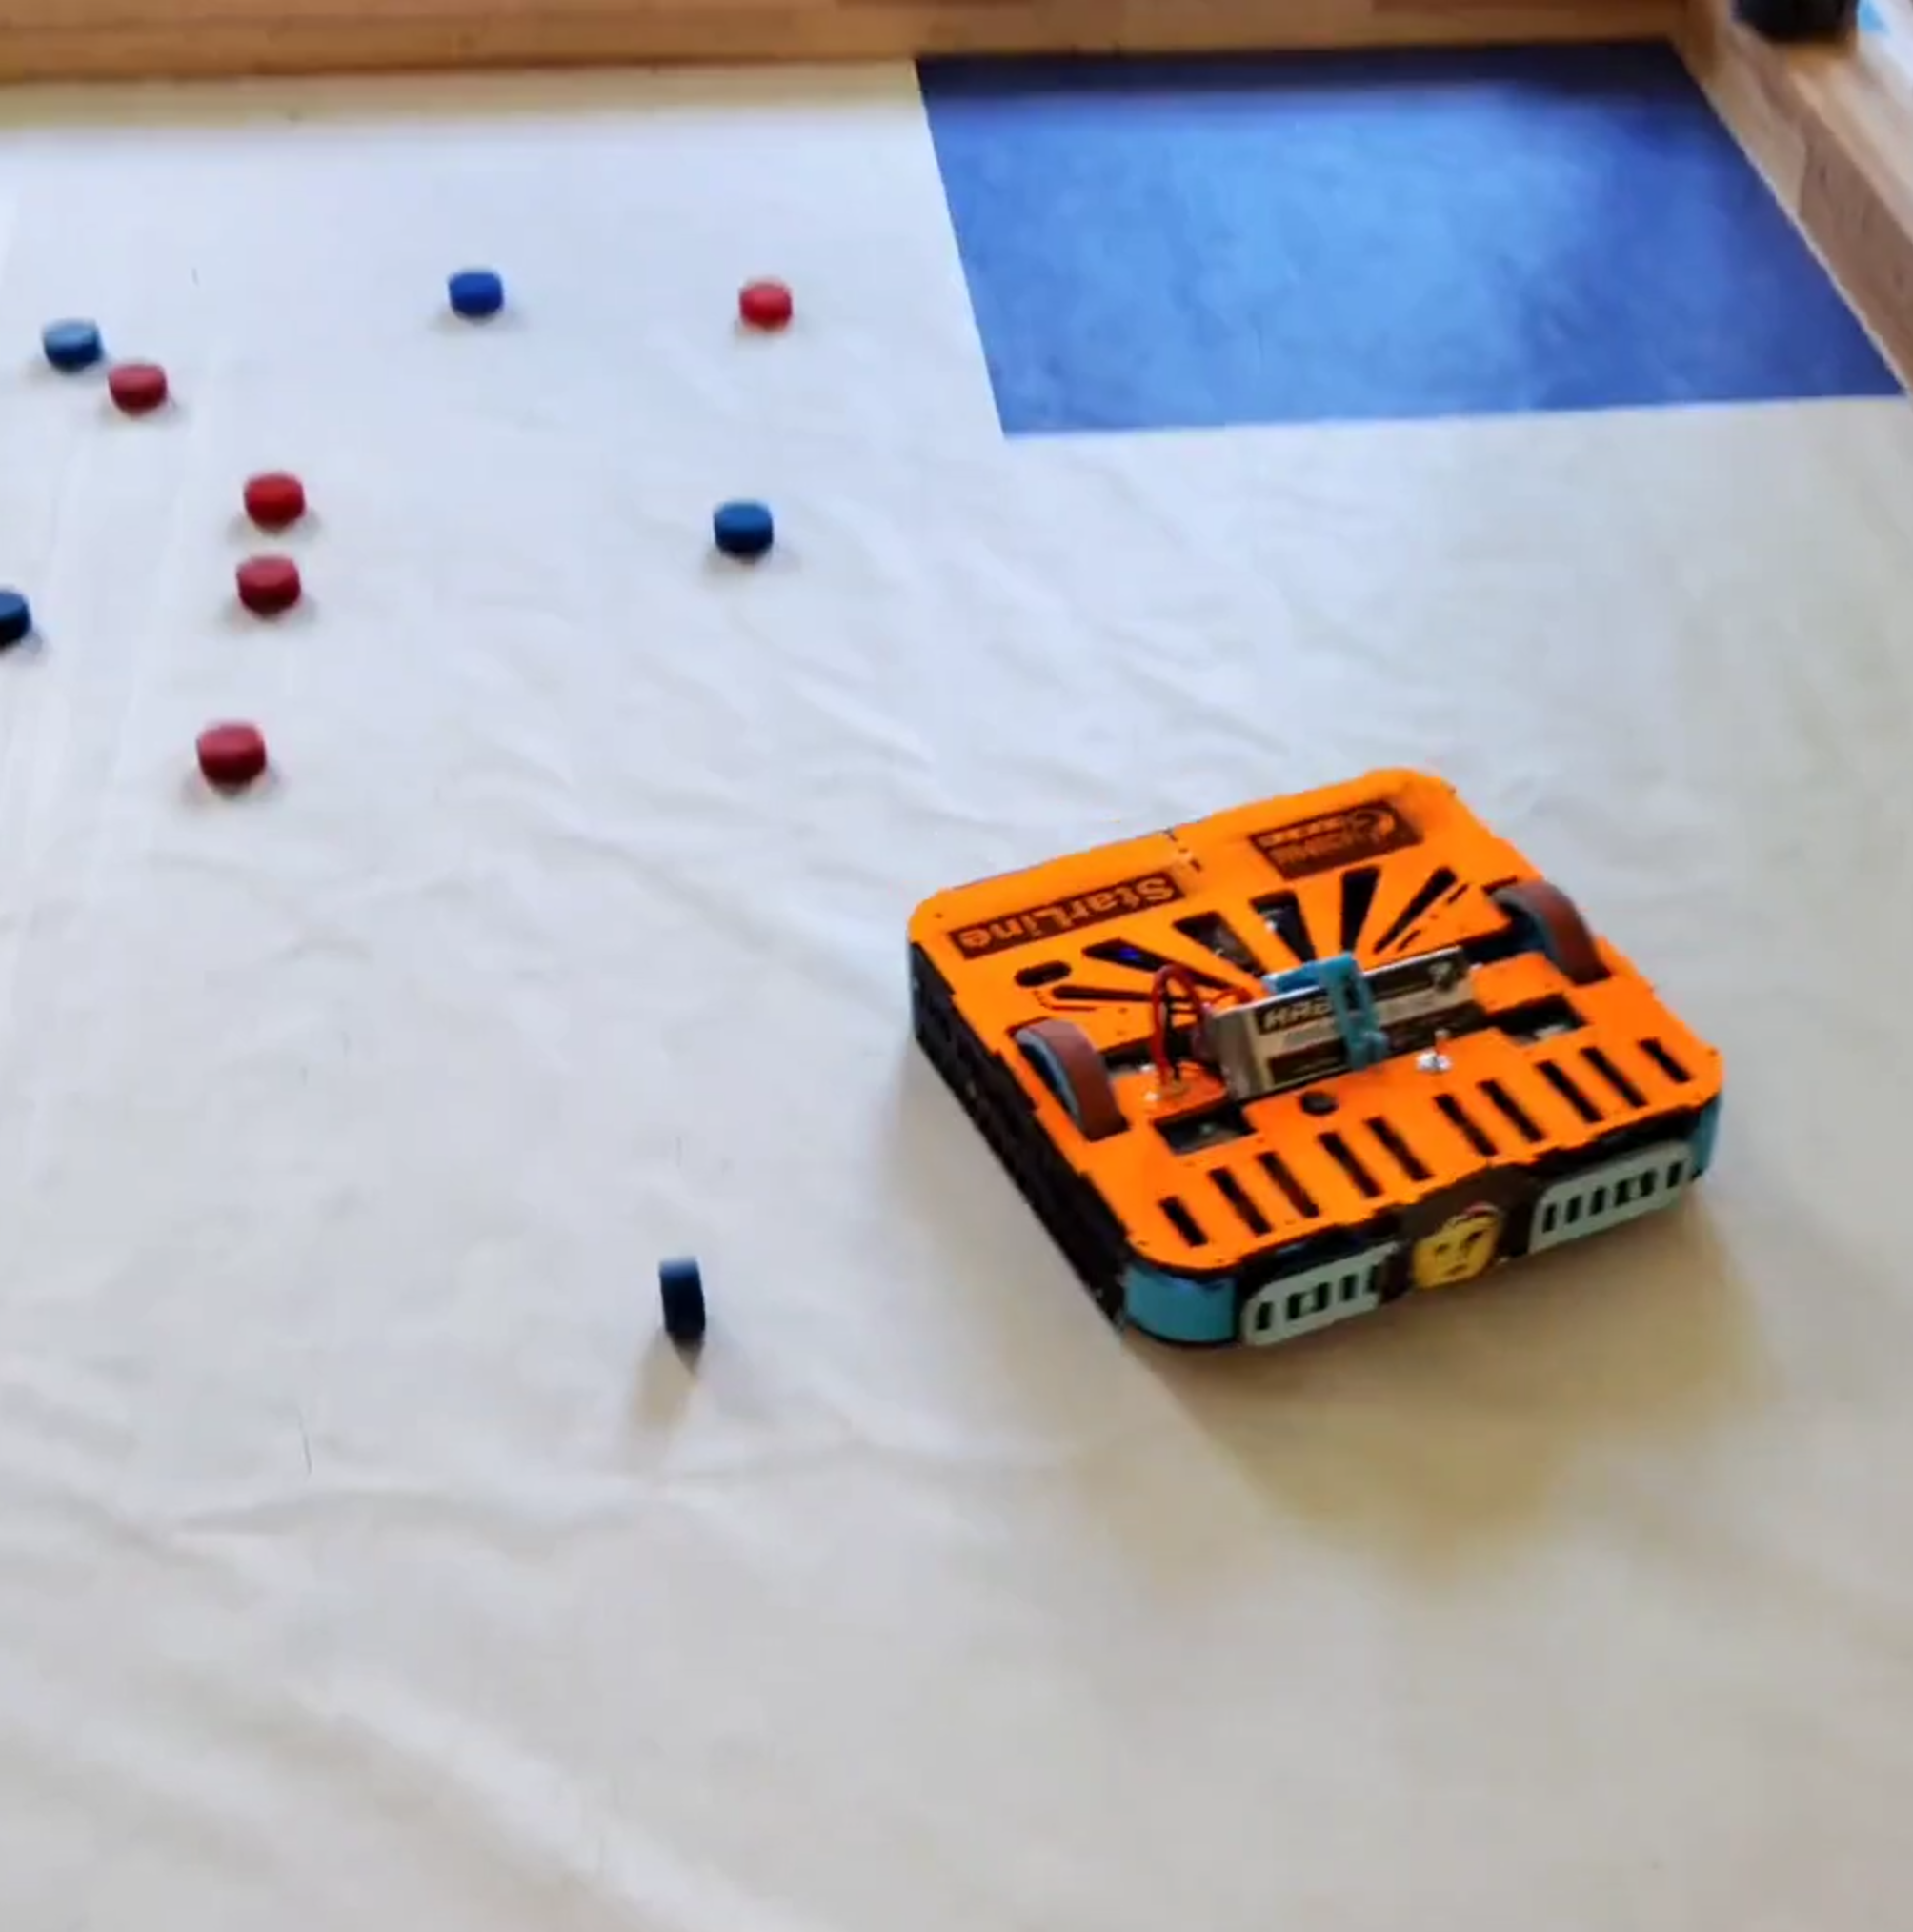blue_puck: (657, 1252, 708, 1338), (715, 501, 776, 561), (40, 317, 105, 366), (447, 266, 505, 317)
red_puck: (194, 722, 266, 781), (233, 550, 301, 611), (242, 471, 307, 522), (110, 359, 166, 410), (741, 280, 790, 328)
